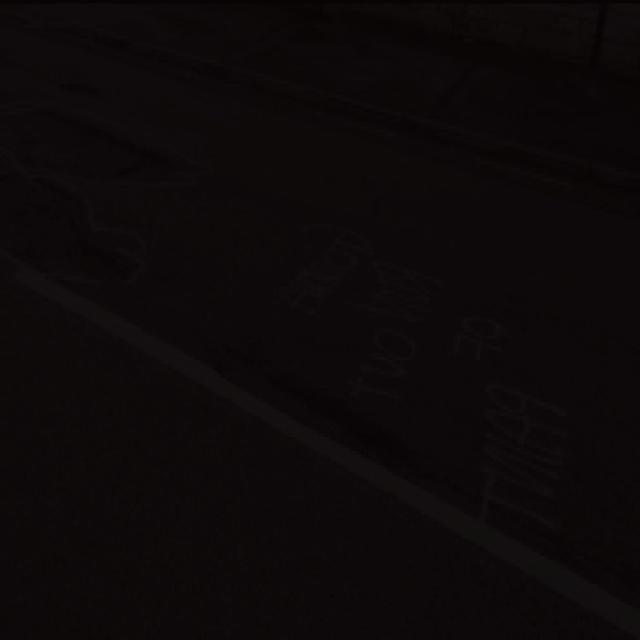Pothole: (208, 333, 456, 491), (0, 80, 205, 191), (0, 173, 164, 304)
